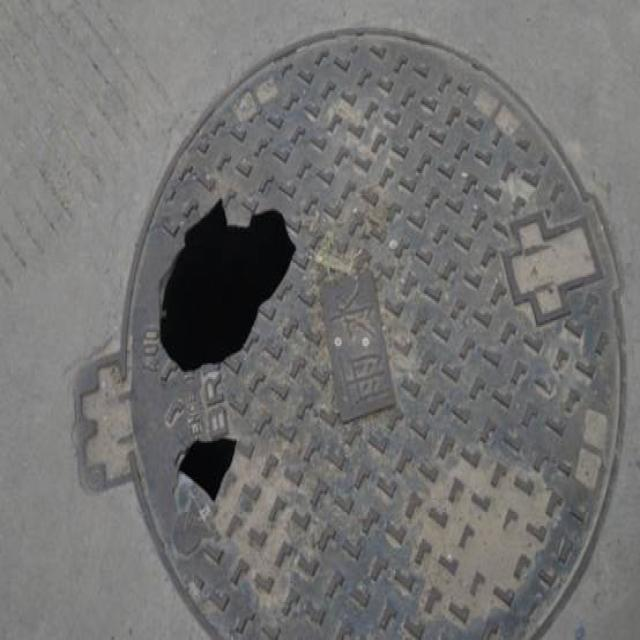manhole: (76, 30, 621, 640)
